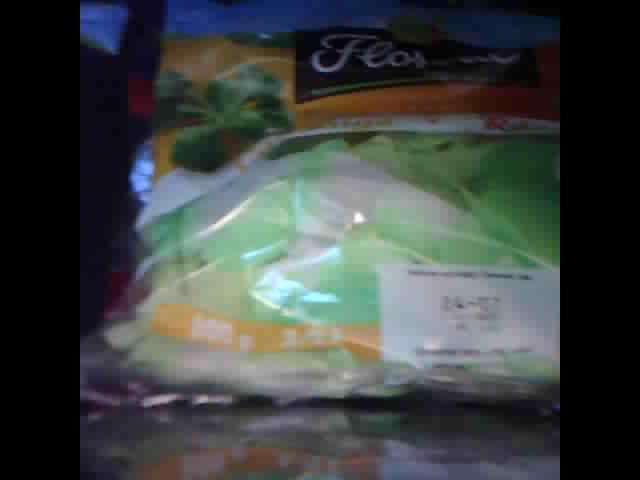florette: (85, 3, 559, 407)
